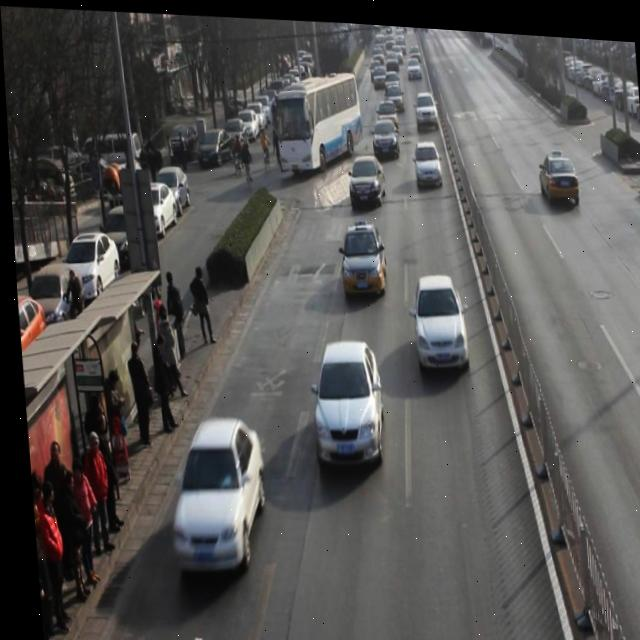car: (155, 412, 265, 579), (304, 330, 383, 465), (407, 266, 466, 364), (336, 217, 385, 292), (535, 143, 578, 197), (344, 148, 384, 204), (411, 132, 442, 184), (370, 113, 399, 155), (412, 82, 439, 125), (373, 92, 398, 129)
van: (270, 64, 363, 176)
